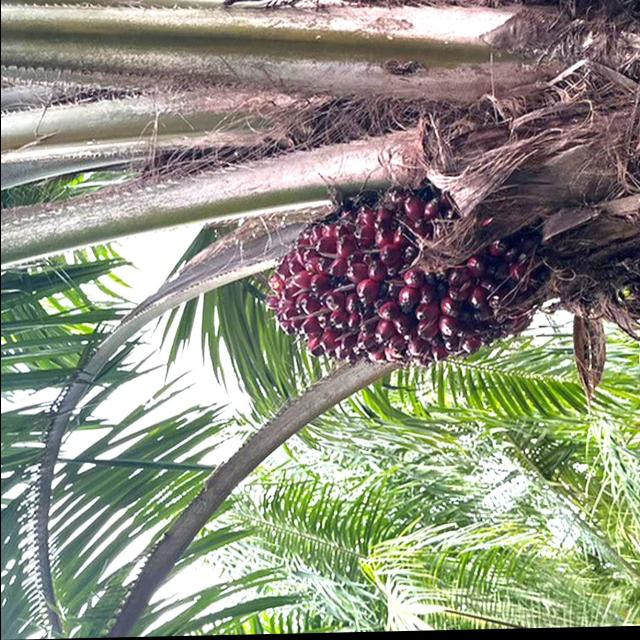ripe: (244, 181, 546, 387)
